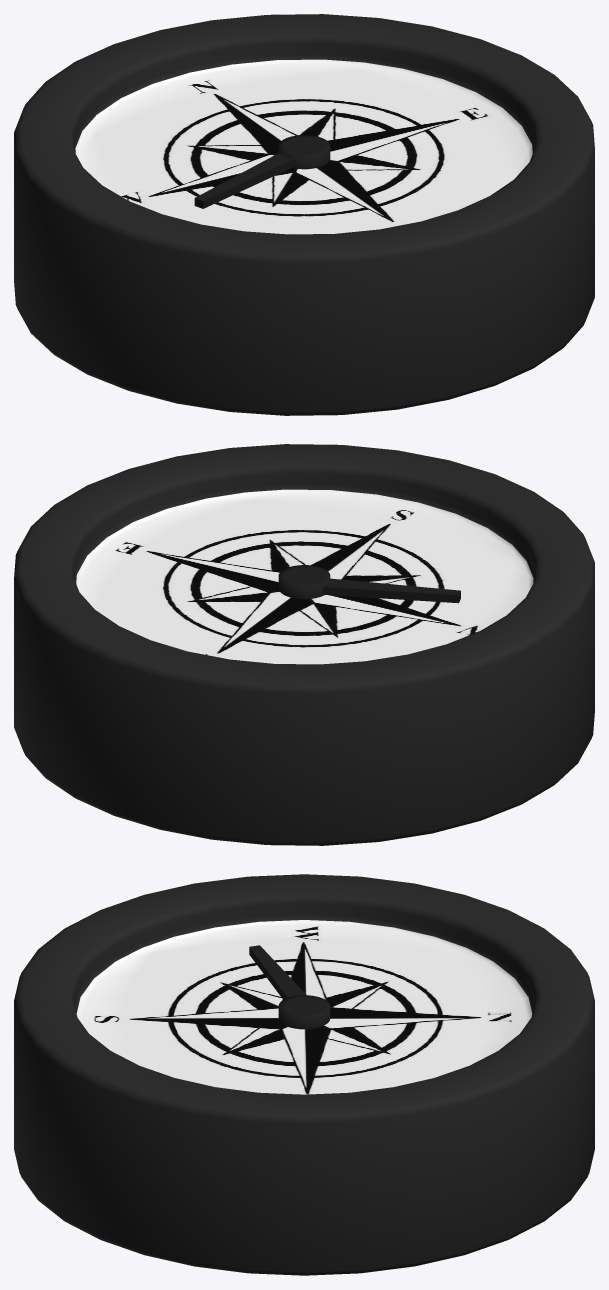
File: Orientation Gauge.fbx
3 renders of one model, top to bottom at view 1: azimuth 30°, elevation 25°; view 2: azimuth 150°, elevation 25°; view 3: azimuth 270°, elevation 25°, orthographic.
Parts seen in each view (by area): view 1: Cylinder.002, Plane.001, Cylinder.003; view 2: Cylinder.002, Plane.001, Cylinder.003; view 3: Cylinder.002, Cylinder.003, Plane.001.
Boxes of the visible parts, bbox=[...] form: Cylinder.002: bbox=[14, 14, 594, 415]; Plane.001: bbox=[194, 152, 293, 208]; Cylinder.003: bbox=[278, 135, 330, 169]; Cylinder.002: bbox=[14, 444, 594, 845]; Plane.001: bbox=[323, 578, 460, 603]; Cylinder.003: bbox=[278, 565, 330, 599]; Cylinder.002: bbox=[14, 874, 594, 1275]; Cylinder.003: bbox=[278, 995, 330, 1029]; Plane.001: bbox=[249, 945, 306, 999].
Bounding box in the file's own units: 200 × 61.36 × 200.
